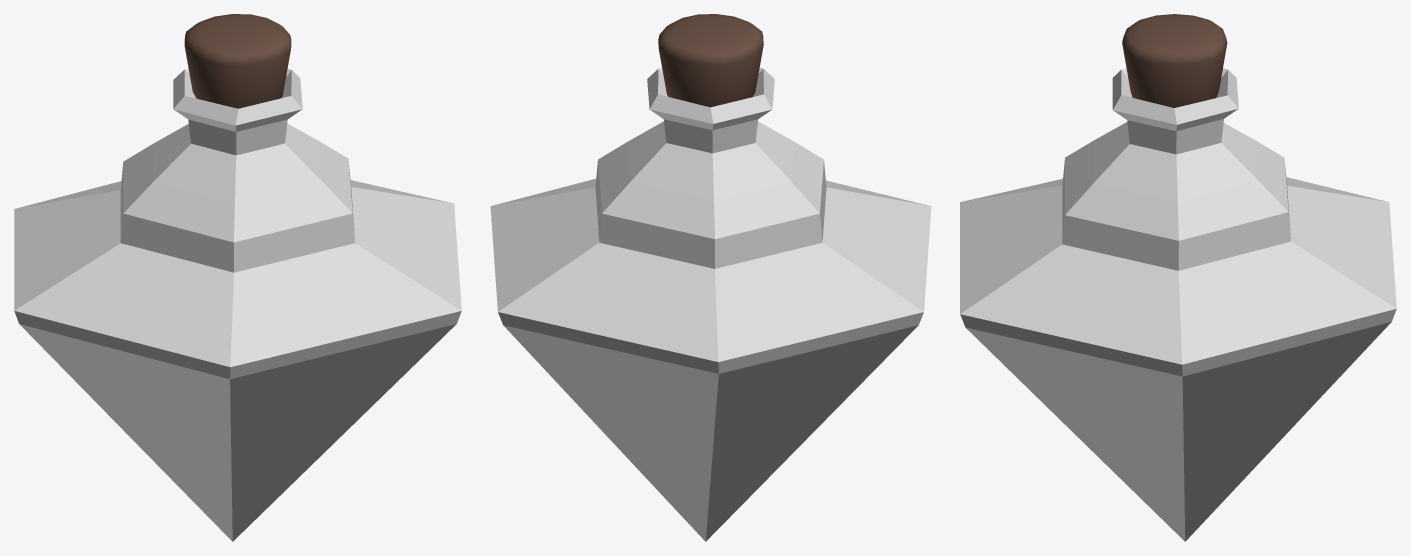
File: Potion11_Filled.glb
3 renders of one model, left to right at view 1: azimuth 30°, elevation 25°; view 2: azimuth 150°, elevation 25°; view 3: azimuth 270°, elevation 25°, orthographic.
Parts seen in each view (by area): view 1: Potion11_Filled; view 2: Potion11_Filled; view 3: Potion11_Filled.
Boxes of the visible parts, box(x1,y1,x2,y2) form: Potion11_Filled: box(14, 14, 461, 541); Potion11_Filled: box(490, 14, 931, 541); Potion11_Filled: box(960, 14, 1396, 541).
Size of the model in its own units: 0.8358 by 0.9373 by 0.7238.
